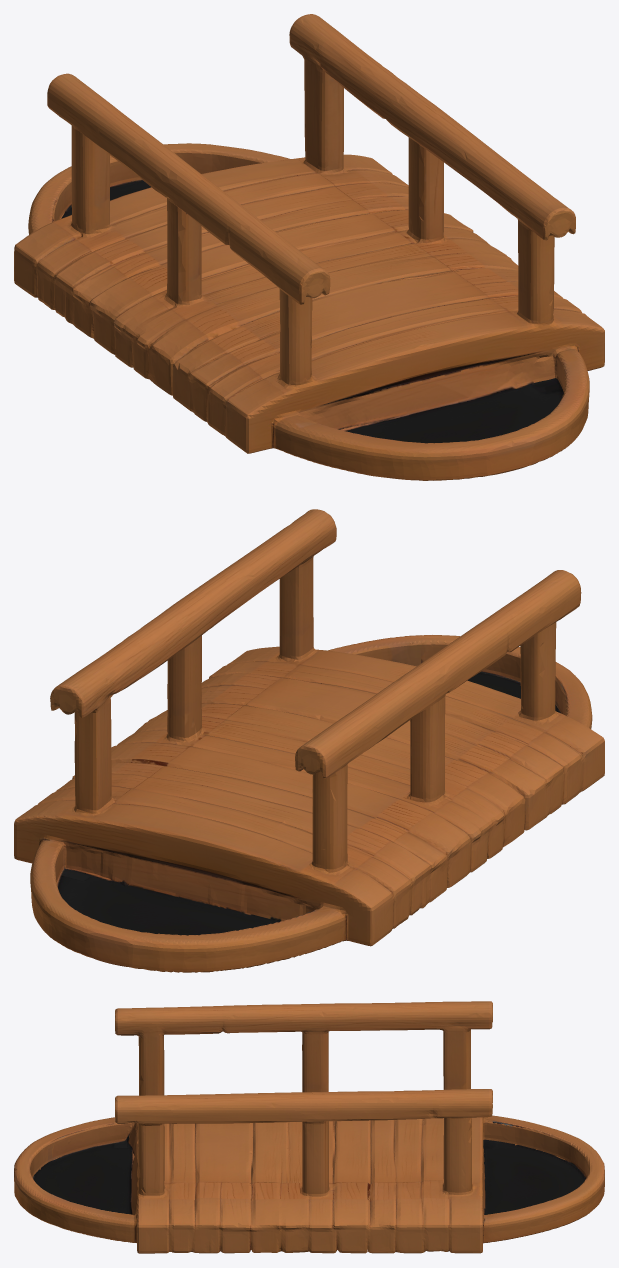
The model's file is bridge.glb.
3 renders of one model, top to bottom at view 1: azimuth 30°, elevation 25°; view 2: azimuth 150°, elevation 25°; view 3: azimuth 270°, elevation 25°, orthographic. The views are drawn at different scales.
Visible parts, largest first — view 1: textured_mesh.obj; view 2: textured_mesh.obj; view 3: textured_mesh.obj.
Boxes of the visible parts, left/top/right/bottom form: textured_mesh.obj: left=14, top=14, right=604, bottom=480; textured_mesh.obj: left=14, top=509, right=604, bottom=972; textured_mesh.obj: left=14, top=1001, right=604, bottom=1253.
Size of the model in its own units: 1.04 by 0.5303 by 1.99.
Materials: 1 (1 with a texture image).
